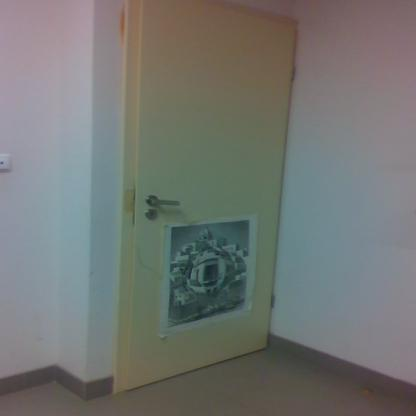door: (135, 0, 292, 370)
hinged: (286, 60, 296, 84), (270, 292, 276, 309)
lever: (150, 196, 187, 209)
